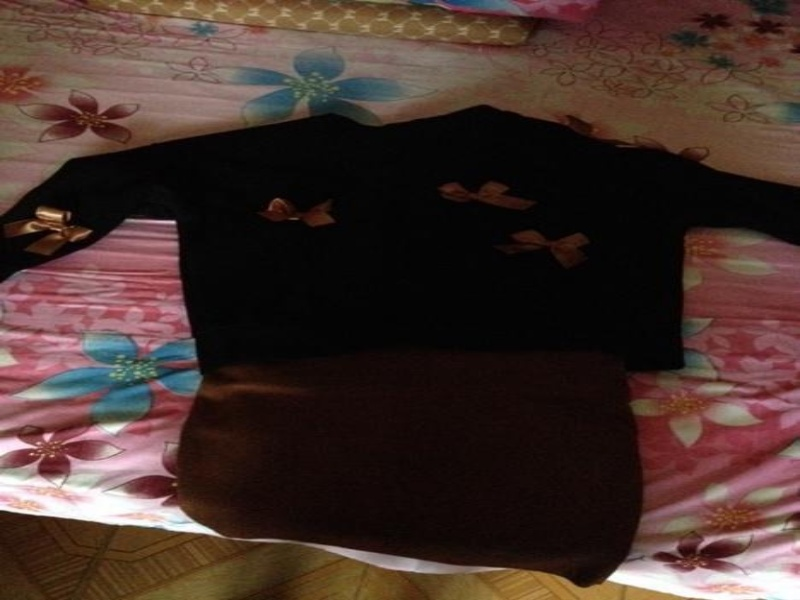long_sleeved_shirt: (0, 106, 798, 376)
skirt: (171, 327, 648, 590)
